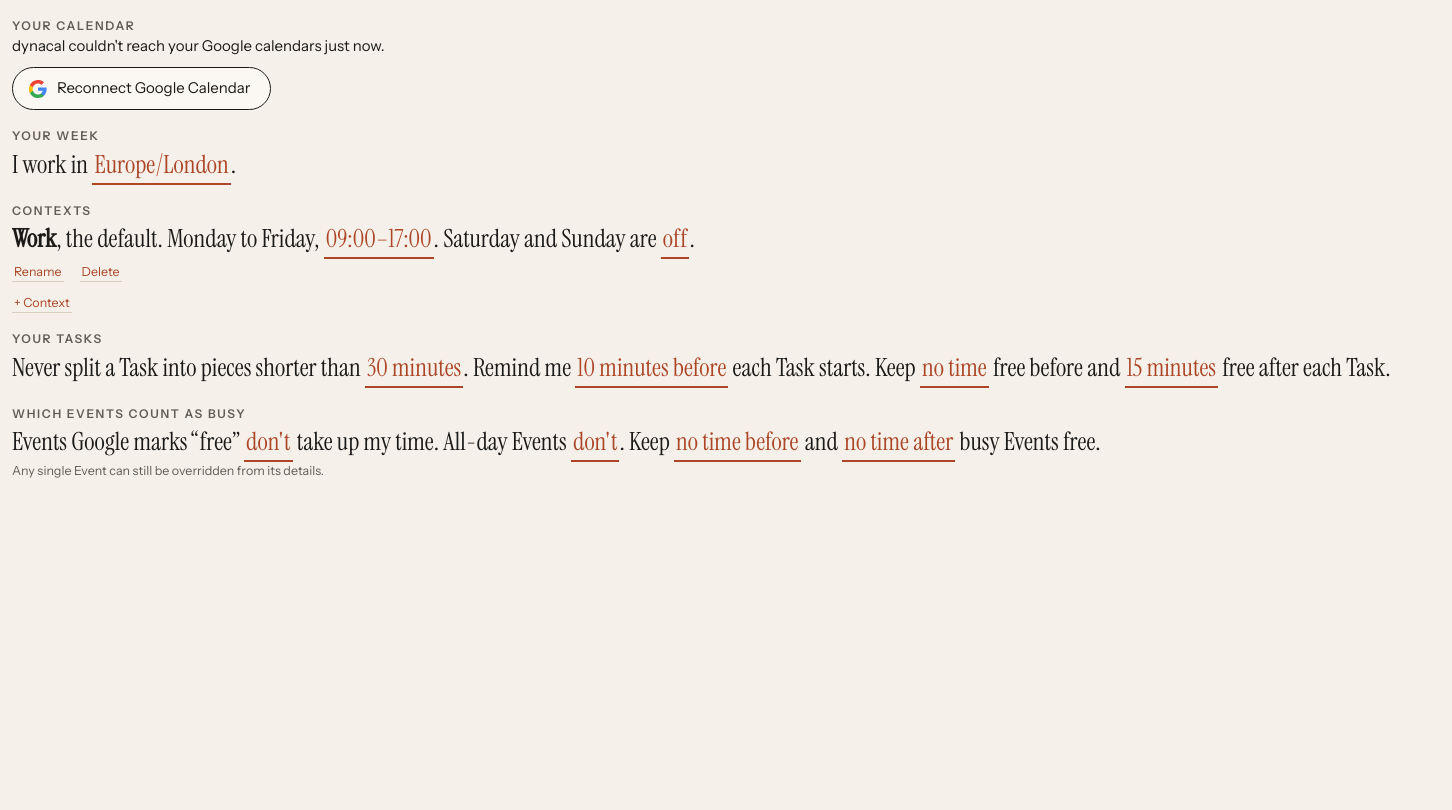
Settings save as you go › saves a valid change after a moment, and says so
Click the switch named "Count free Events". click: (268, 442)
box: x1=244 y1=422 x2=292 y2=462
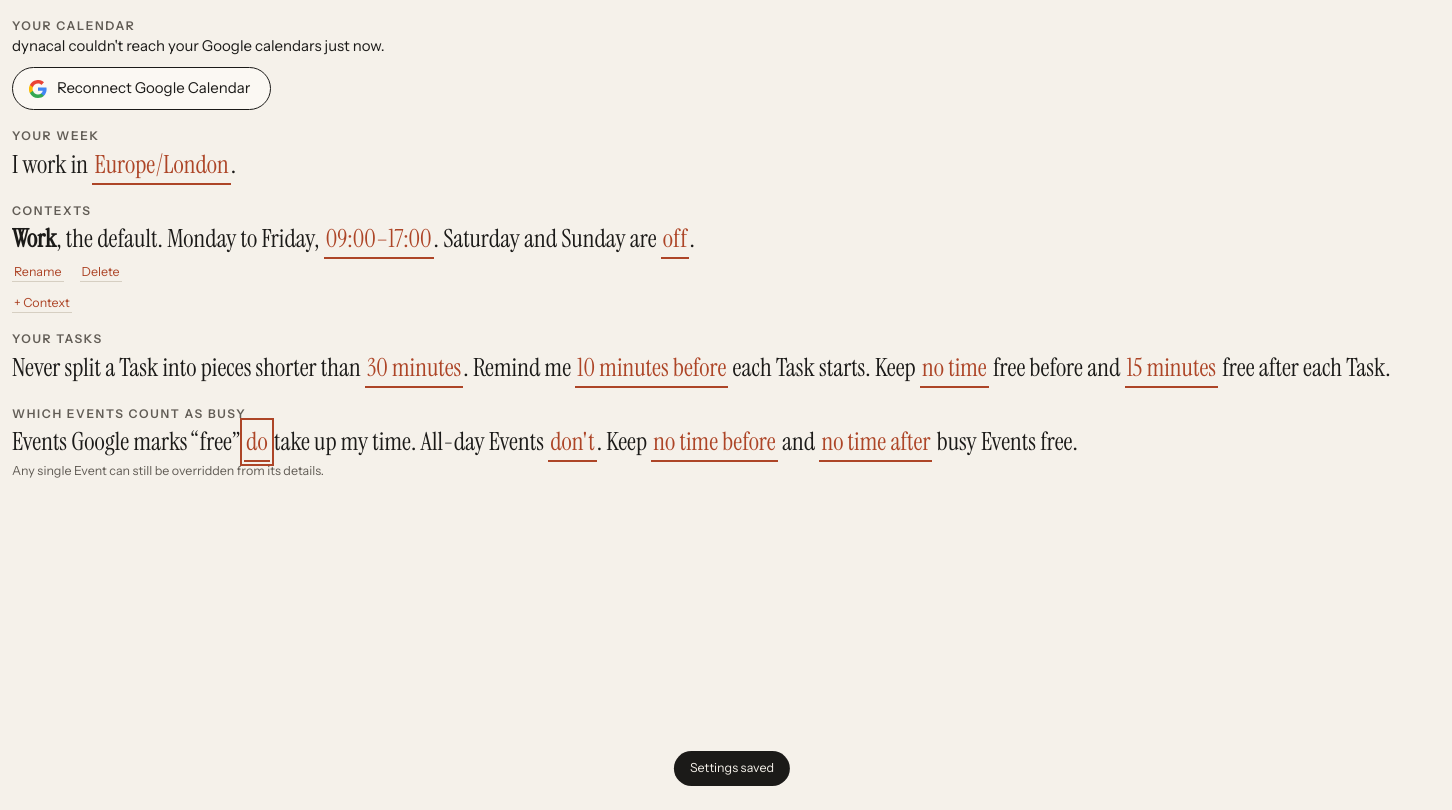
Now the message reads "Settings saved", box x1=690 y1=760 x2=774 y2=775
